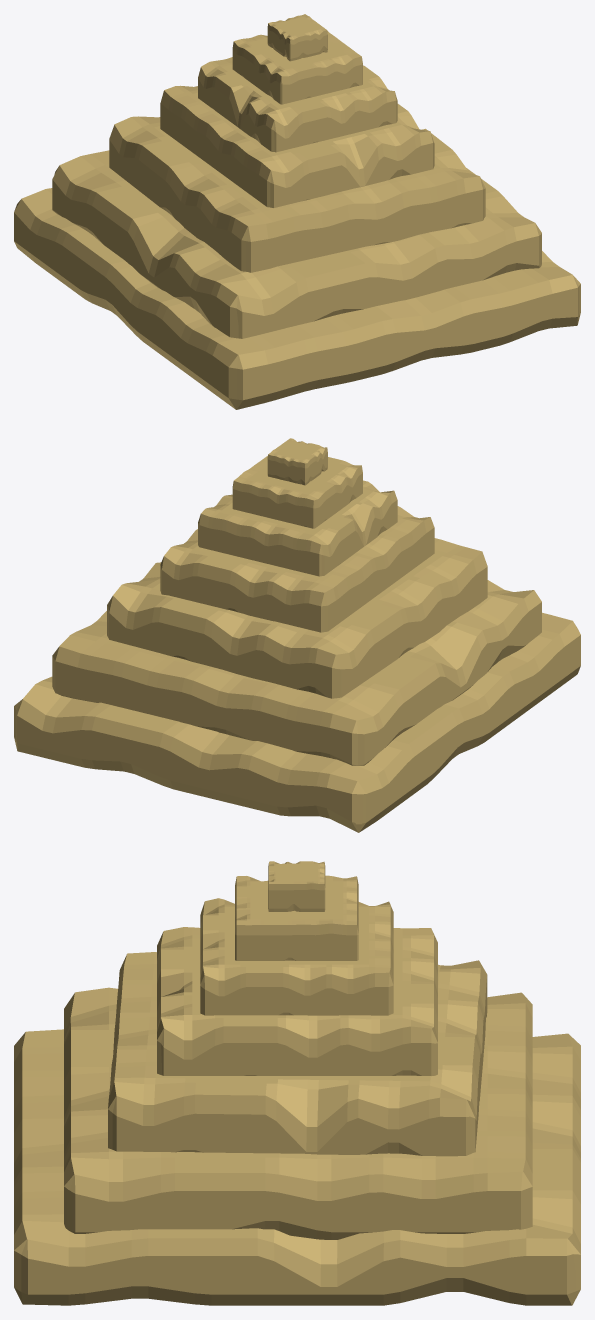
The model's file is KPramit.fbx.
3 renders of one model, top to bottom at view 1: azimuth 30°, elevation 25°; view 2: azimuth 150°, elevation 25°; view 3: azimuth 270°, elevation 25°, orthographic. The views are drawn at different scales.
Parts seen in each view (by area): view 1: Cube.014; view 2: Cube.014; view 3: Cube.014.
Part boxes in pixels (bbox=[...]): Cube.014: bbox=[14, 14, 580, 409]; Cube.014: bbox=[14, 438, 580, 832]; Cube.014: bbox=[14, 861, 580, 1305].
Bounding box in the file's own units: 53.41 × 38.02 × 59.34.
